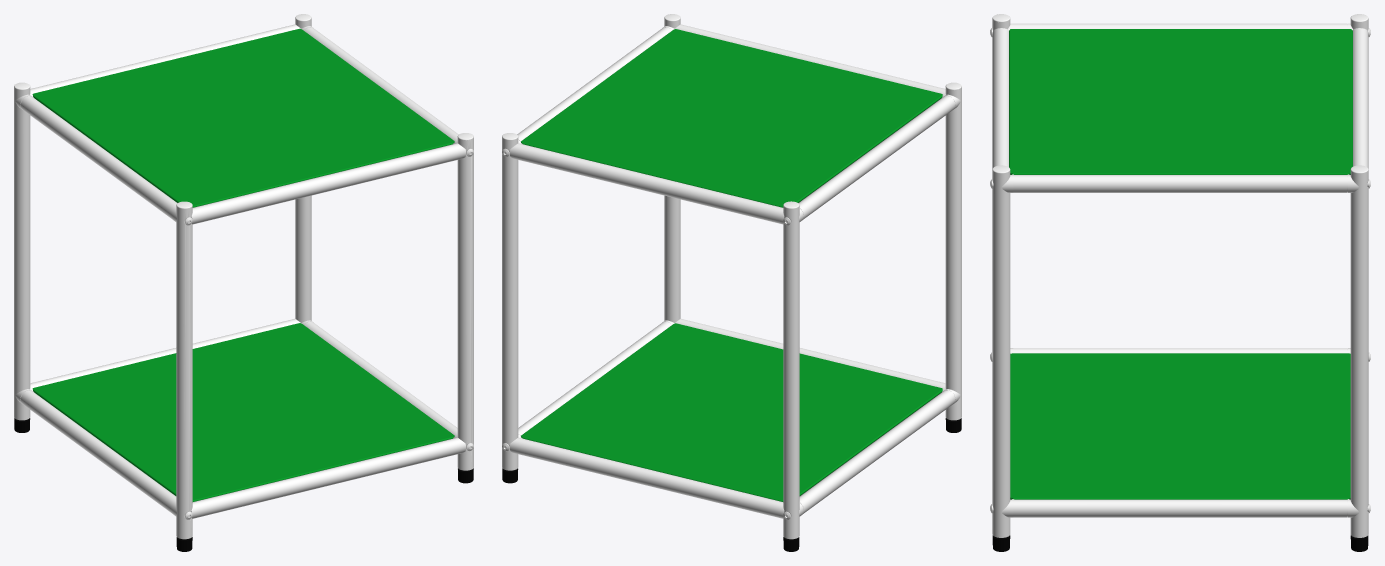
The model's file is 40x40x40-2-1-green_optimized_optimized.glb.
3 renders of one model, left to right at view 1: azimuth 30°, elevation 25°; view 2: azimuth 150°, elevation 25°; view 3: azimuth 270°, elevation 25°, orthographic. The views are drawn at different scales.
Parts seen in each view (by area): view 1: 直角鐵板-40x40-5 - 零件, 反-鐵管-40-354..4-1 - 零件, 圓形腳+調整器-1 - 零件; view 2: 直角鐵板-40x40-5 - 零件, 反-鐵管-40-354..4-1 - 零件, 圓形腳+調整器-1 - 零件; view 3: 直角鐵板-40x40-5 - 零件, 反-鐵管-40-354..4-1 - 零件, 圓形腳+調整器-1 - 零件.
Part boxes in pixels (x1,y1,x2,y2): 直角鐵板-40x40-5 - 零件: [32, 28, 454, 501]; 反-鐵管-40-354..4-1 - 零件: [14, 14, 473, 539]; 圓形腳+調整器-1 - 零件: [14, 418, 473, 551]; 直角鐵板-40x40-5 - 零件: [521, 29, 942, 501]; 反-鐵管-40-354..4-1 - 零件: [502, 14, 961, 539]; 圓形腳+調整器-1 - 零件: [502, 418, 961, 551]; 直角鐵板-40x40-5 - 零件: [1009, 29, 1352, 499]; 反-鐵管-40-354..4-1 - 零件: [990, 14, 1370, 537]; 圓形腳+調整器-1 - 零件: [992, 535, 1368, 551].
Bounding box in the file's own units: 0.3992 × 0.4453 × 0.4035.
